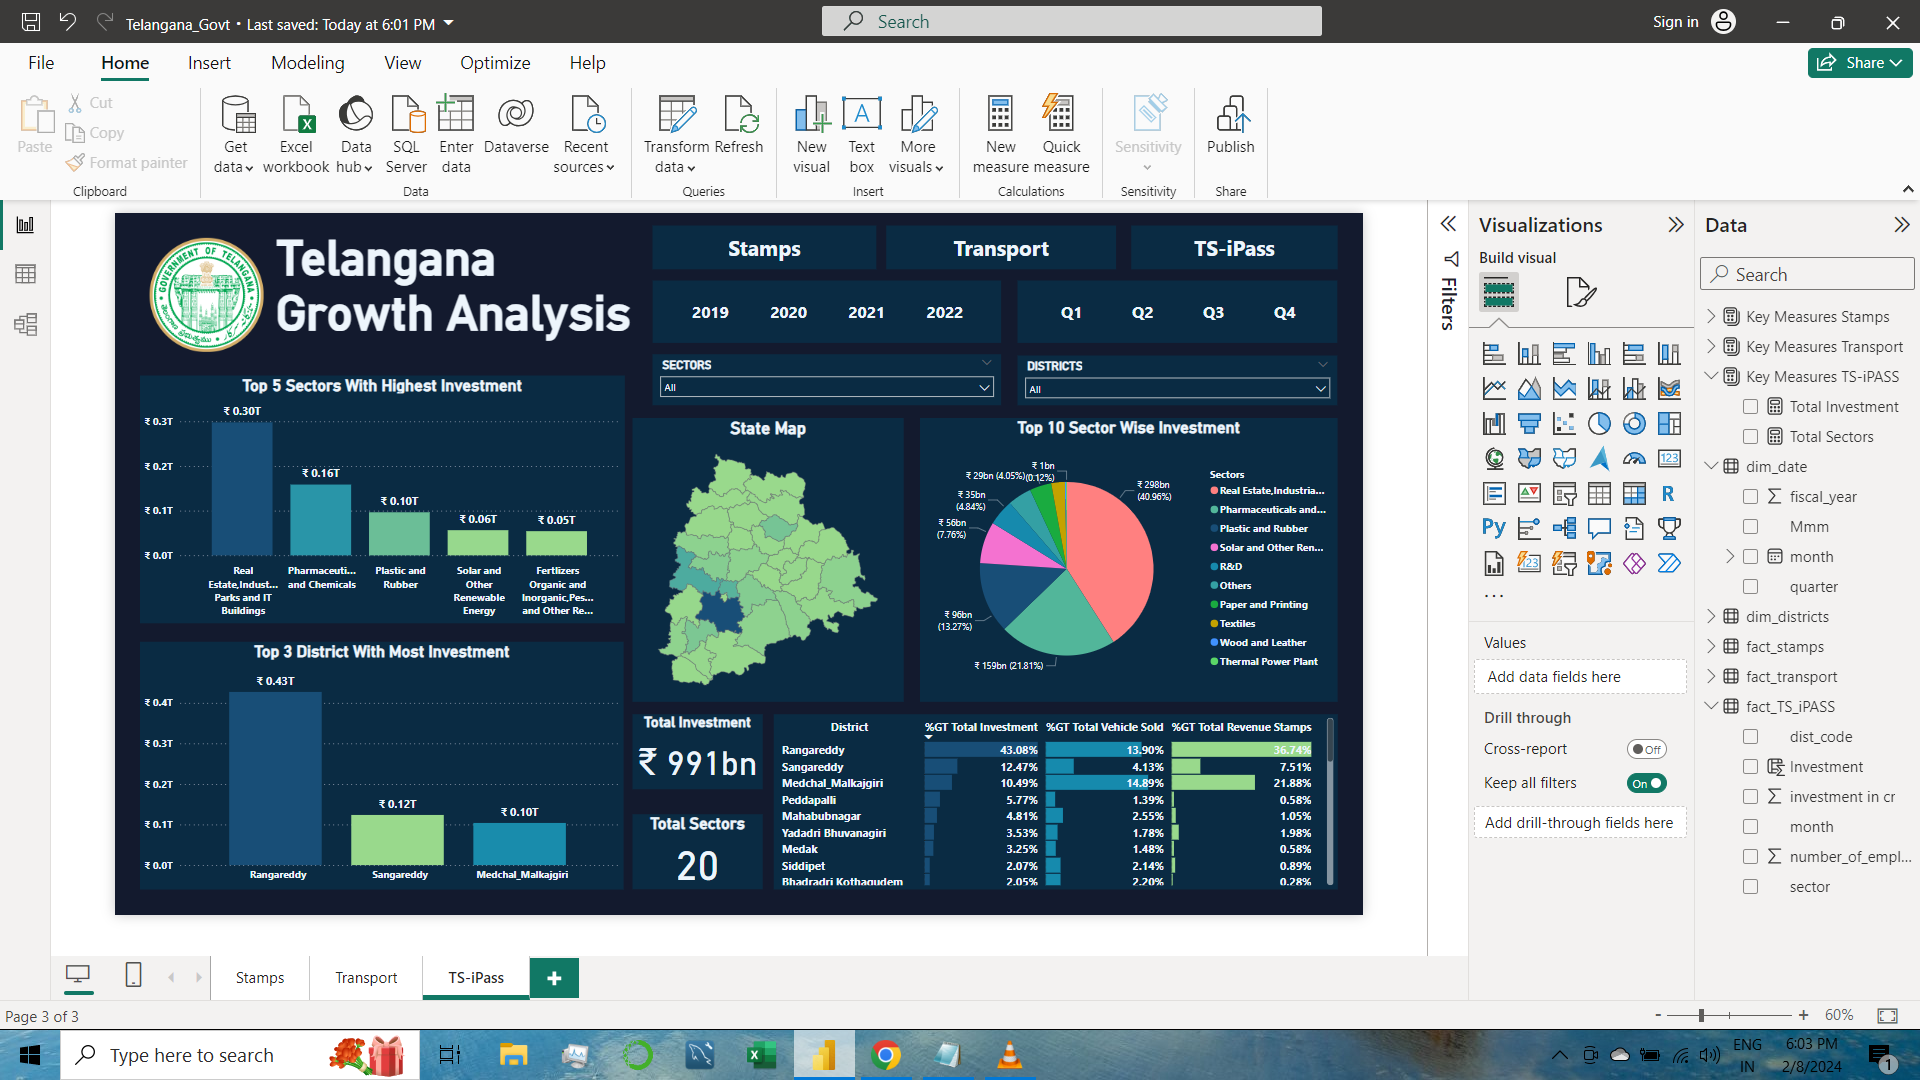

The dashboard page shown, as its layout file describes it:
{"tool":"powerbi","page":{"name":"TS-iPass","canvas":[1664,936],"ordinal":2},"visuals":[{"type":"slicer","fields":{"Values":["dim_date.fiscal_year"]},"box":[716.7,90,465,83.3],"z":0},{"type":"slicer","fields":{"Values":["dim_date.quarter"]},"box":[1203.3,90,426.7,83.3],"z":1000},{"type":"clusteredColumnChart","title":"Top 5 Sectors With Highest Investment","fields":{"Y":["Key Measures TS-iPASS.Total Investment"],"Category":["fact_TS_iPASS.sector"]},"box":[34,216,646,330],"z":2000},{"type":"clusteredColumnChart","title":"Top 3 District With Most Investment","fields":{"Category":["dim_districts.district"],"Y":["Key Measures TS-iPASS.Total Investment"]},"box":[33.3,571.7,645,330],"z":3000},{"type":"tableEx","title":"Investment Trend Monthly","fields":{"Values":["dim_districts.district","Key Measures TS-iPASS.Total Investment","Key Measures Transport.Total Vehicle Sold","Key Measures Stamps.Total Revenue Stamps"]},"box":[878.3,668.3,751.7,233.3],"z":4000},{"type":"shapeMap","title":"State Map","fields":{"Category":["dim_districts.district"],"Value":["Key Measures TS-iPASS.Total Investment"]},"box":[690,273.3,361.7,378.3],"z":5000},{"type":"card","title":"Total Sectors","fields":{"Values":["Key Measures TS-iPASS.Total Sectors"]},"box":[690,801.7,173.3,100],"z":6000},{"type":"card","title":"Total Investment ","fields":{"Values":["Key Measures TS-iPASS.Total Investment"]},"box":[690,668.3,173.3,100],"z":7000},{"type":"image","box":[33.3,28.3,176.7,161.7],"z":8000},{"type":"textbox","box":[210,16.7,506.7,173.3],"z":9000},{"type":"actionButton","box":[716.7,16.7,298.3,58.3],"z":10000},{"type":"actionButton","box":[1355,16.7,275,58.3],"z":11000},{"type":"actionButton","box":[1028.3,16.7,306.7,58.3],"z":12000},{"type":"slicer","fields":{"Values":["fact_TS_iPASS.sector"]},"box":[716.7,188.3,465,68.3],"z":13000},{"type":"slicer","fields":{"Values":["dim_districts.district"]},"box":[1203.3,190,426.7,66.7],"z":14000},{"type":"pieChart","title":"Top 10 Sector Wise Investment","fields":{"Category":["fact_TS_iPASS.sector"],"Y":["Key Measures TS-iPASS.Total Investment"]},"box":[1073.3,273.3,556.7,378.3],"z":15000}]}

Visuals, with their boxes on the page's 1664x936 design canvas (x1, y1, x2, y2). These are canvas units, not pixel positions in the 1920x1080 screenshot, which may show the page scaled, cropped or inside an application window:
slicer - dim_date.fiscal_year: [x1=717, y1=90, x2=1182, y2=173]
slicer - dim_date.quarter: [x1=1203, y1=90, x2=1630, y2=173]
"Top 5 Sectors With Highest Investment" clusteredColumnChart: [x1=34, y1=216, x2=680, y2=546]
"Top 3 District With Most Investment" clusteredColumnChart: [x1=33, y1=572, x2=678, y2=902]
"Investment Trend Monthly" tableEx: [x1=878, y1=668, x2=1630, y2=902]
"State Map" shapeMap: [x1=690, y1=273, x2=1052, y2=652]
"Total Sectors" card: [x1=690, y1=802, x2=863, y2=902]
"Total Investment " card: [x1=690, y1=668, x2=863, y2=768]
image: [x1=33, y1=28, x2=210, y2=190]
textbox: [x1=210, y1=17, x2=717, y2=190]
actionButton: [x1=717, y1=17, x2=1015, y2=75]
actionButton: [x1=1355, y1=17, x2=1630, y2=75]
actionButton: [x1=1028, y1=17, x2=1335, y2=75]
slicer - fact_TS_iPASS.sector: [x1=717, y1=188, x2=1182, y2=257]
slicer - dim_districts.district: [x1=1203, y1=190, x2=1630, y2=257]
"Top 10 Sector Wise Investment" pieChart: [x1=1073, y1=273, x2=1630, y2=652]
